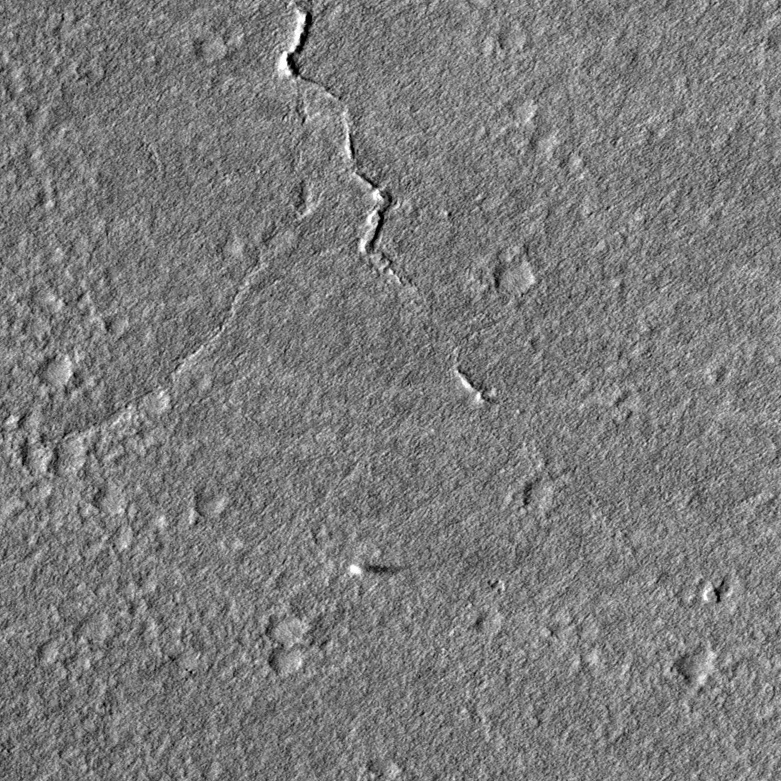dust_devil: (347, 562, 405, 577)
